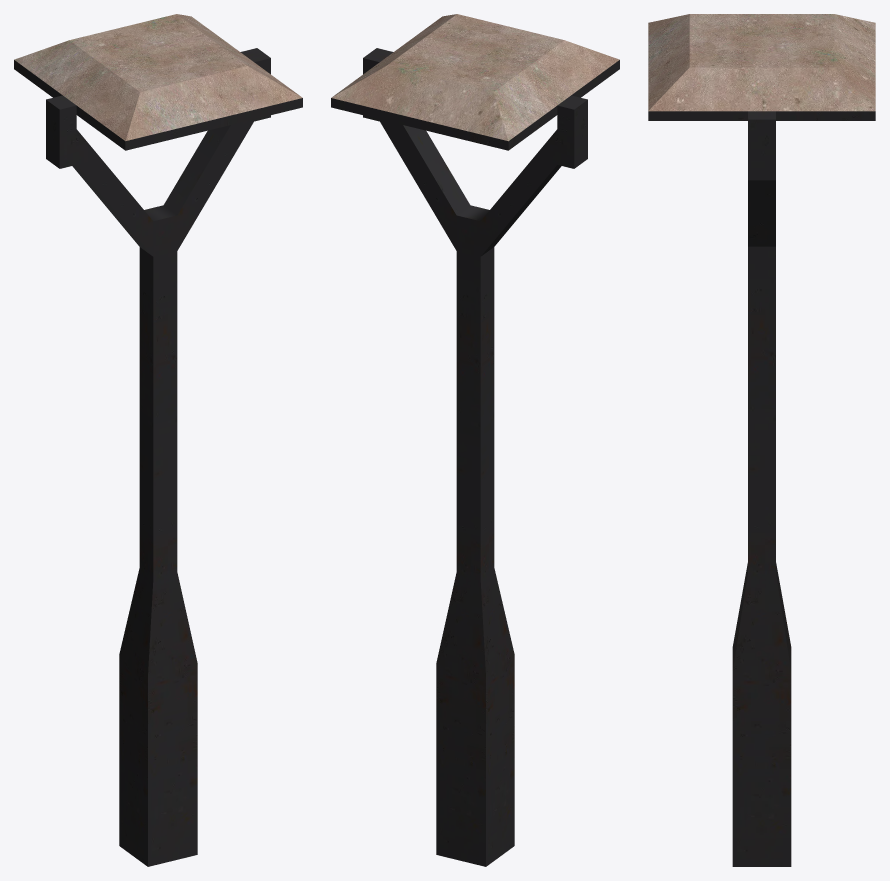
The model's file is pm-light-streetlight-01.glb.
3 renders of one model, left to right at view 1: azimuth 30°, elevation 25°; view 2: azimuth 150°, elevation 25°; view 3: azimuth 270°, elevation 25°, orthographic. The views are drawn at different scales.
Visible parts, largest first — view 1: Light_Streetlight_01; view 2: Light_Streetlight_01; view 3: Light_Streetlight_01.
Part boxes in pixels (x1=…): Light_Streetlight_01: x1=14, y1=14, x2=302, y2=866; Light_Streetlight_01: x1=331, y1=14, x2=619, y2=866; Light_Streetlight_01: x1=648, y1=14, x2=875, y2=866.
Size of the model in its own units: 0.6123 by 2.21 by 0.5592.
2 materials, 2 textured.
